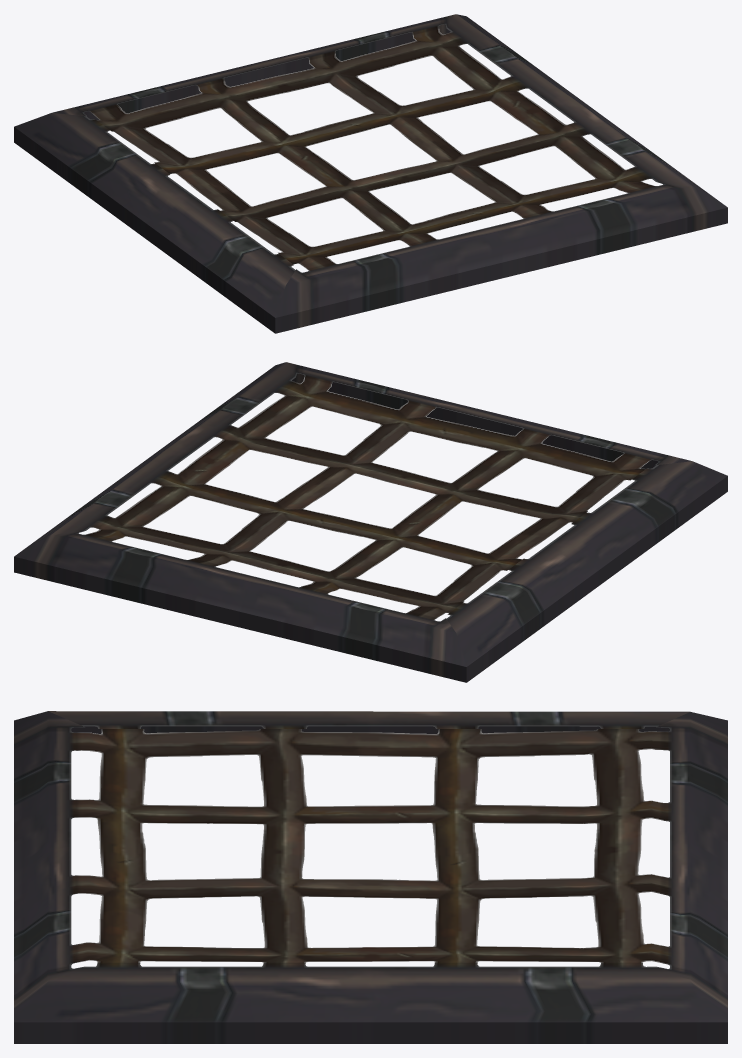
Rendered from wire_netting.FBX.
3 views of the same model, one above another, from view 1: azimuth 30°, elevation 25°; view 2: azimuth 150°, elevation 25°; view 3: azimuth 270°, elevation 25° (orthographic). The views are drawn at different scales.
Parts seen in each view (by area): view 1: wire_netting; view 2: wire_netting; view 3: wire_netting.
Boxes of the visible parts, x1,y1,x2,y2 form: wire_netting: [14, 14, 727, 333]; wire_netting: [14, 362, 727, 682]; wire_netting: [14, 711, 727, 1043].
Bounding box in the file's own units: 3 × 0.2145 × 3.
Materials: 1 (1 with a texture image).
